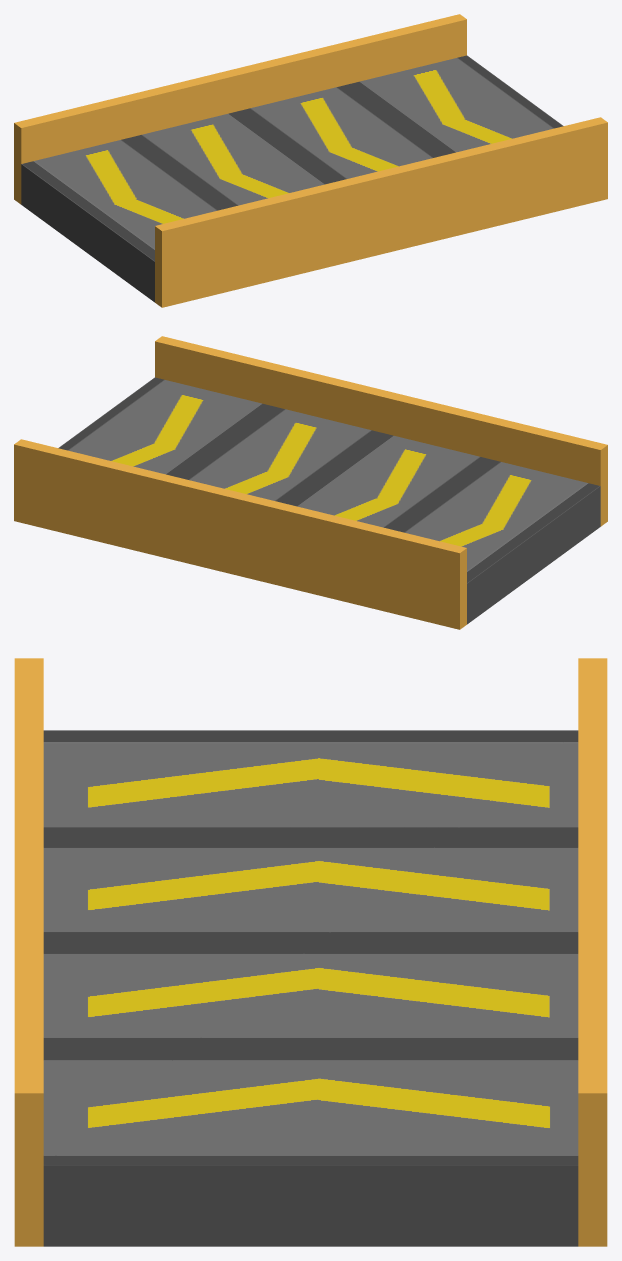
File: conveyor belt.fbx
3 views of the same model, one above another, from view 1: azimuth 30°, elevation 25°; view 2: azimuth 150°, elevation 25°; view 3: azimuth 270°, elevation 25° (orthographic). The views are drawn at different scales.
Visible parts, largest first — view 1: conveyor belt; view 2: conveyor belt; view 3: conveyor belt.
Boxes of the visible parts, x1,y1,x2,y2 form: conveyor belt: (14, 14, 607, 307); conveyor belt: (14, 336, 607, 629); conveyor belt: (14, 658, 607, 1246).
Size of the model in its own units: 172 by 28.26 by 99.
